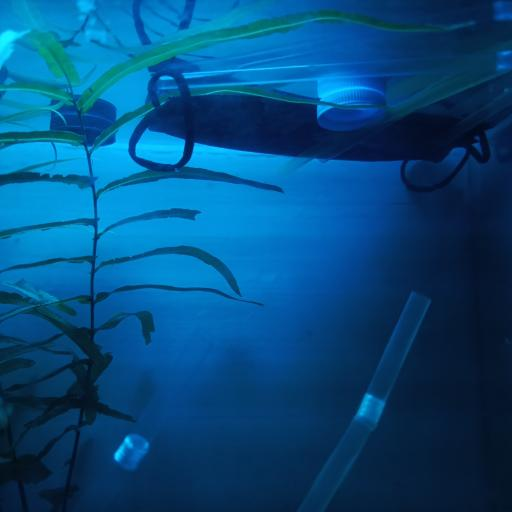bottle_cap: (316, 87, 385, 128), (50, 108, 118, 146)
mask: (129, 64, 492, 193)
plastic_straw: (299, 288, 431, 512), (280, 55, 512, 174), (71, 321, 214, 512), (316, 60, 512, 166), (159, 48, 512, 90), (435, 88, 512, 151)
